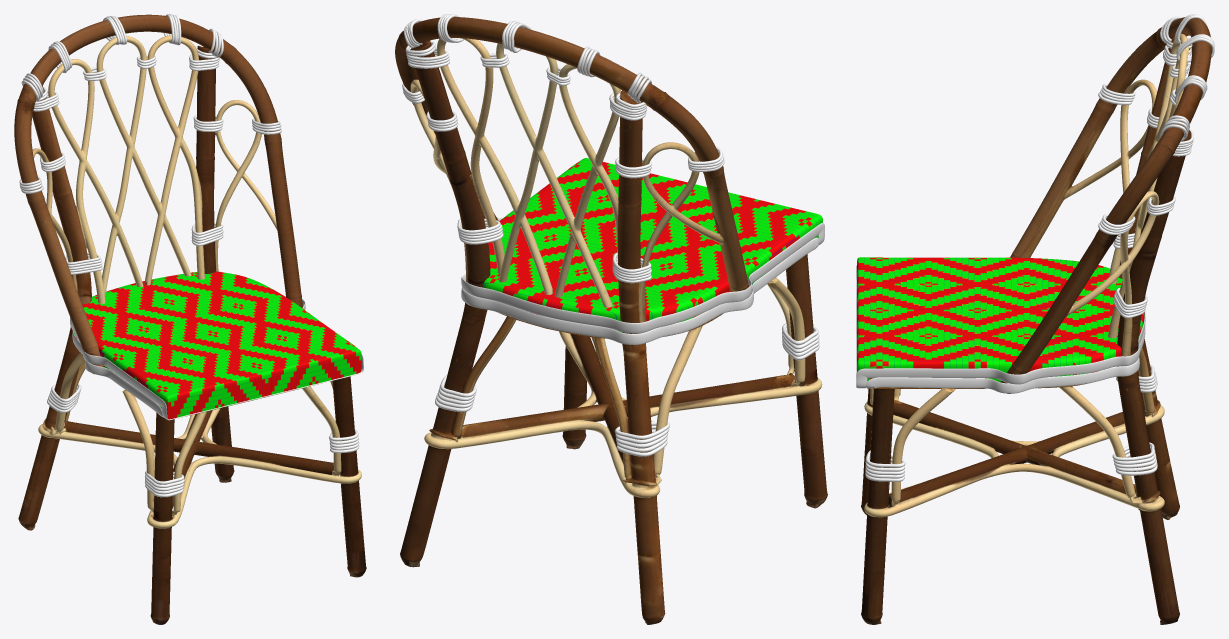
Rendered from resille-chevron.glb.
The picture shows the model from 3 angles, left to right: view 1: azimuth 30°, elevation 25°; view 2: azimuth 150°, elevation 25°; view 3: azimuth 270°, elevation 25°; orthographic projection. The views are drawn at different scales.
Visible parts, largest first — view 1: mesh_structure, mesh_tressage, mesh_laniere; view 2: mesh_structure, mesh_tressage, mesh_laniere; view 3: mesh_structure, mesh_tressage, mesh_laniere.
Part boxes in pixels (left/top/right/bottom): mesh_structure: left=14, top=14, right=366, bottom=624; mesh_tressage: left=74, top=271, right=361, bottom=419; mesh_laniere: left=19, top=14, right=363, bottom=497; mesh_structure: left=395, top=17, right=827, bottom=624; mesh_tressage: left=483, top=158, right=822, bottom=331; mesh_laniere: left=402, top=14, right=824, bottom=456; mesh_structure: left=861, top=17, right=1212, bottom=624; mesh_tressage: left=857, top=257, right=1144, bottom=381; mesh_laniere: left=856, top=14, right=1214, bottom=481.
Size of the model in its own units: 0.5127 by 0.9055 by 0.5496.
Materials: 3 (2 with a texture image).
